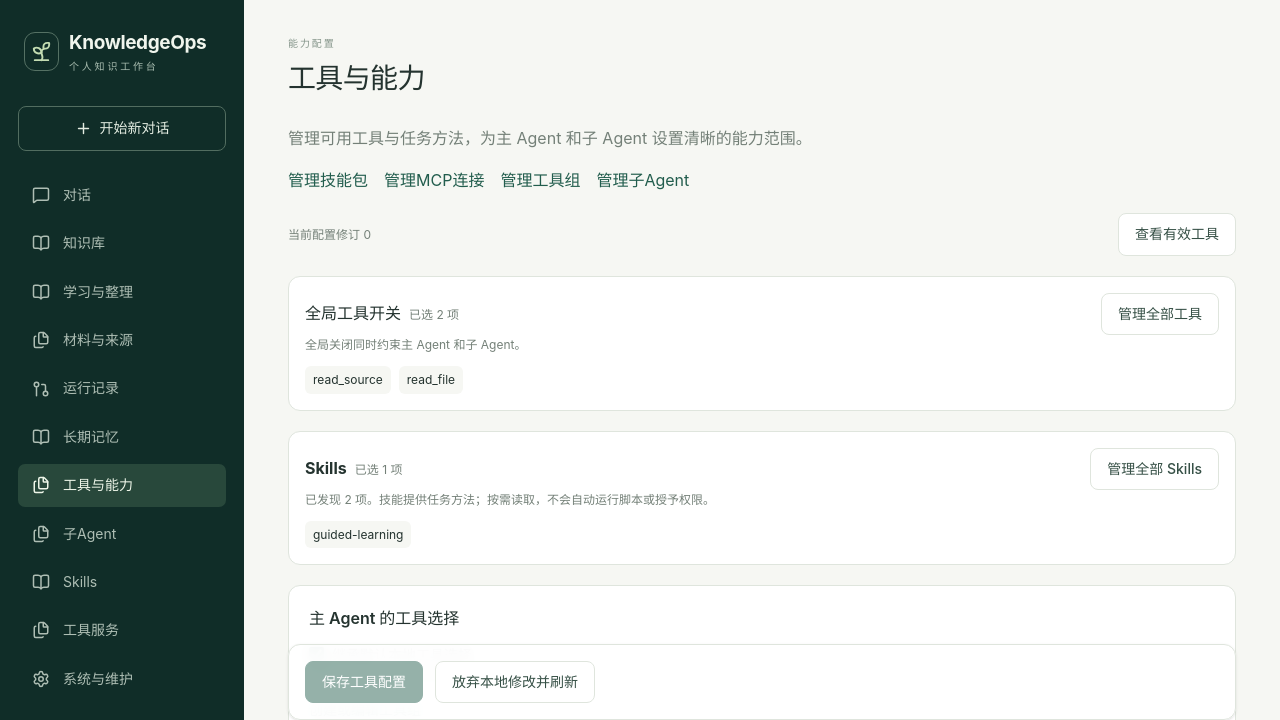
Test: keeps the page compact and loads effective tools only when requested
Check: the heading "工具与能力" is shown, box [288, 59, 425, 98]
Click the button "查看有效工具" at (1177, 235), box [1118, 213, 1236, 256]
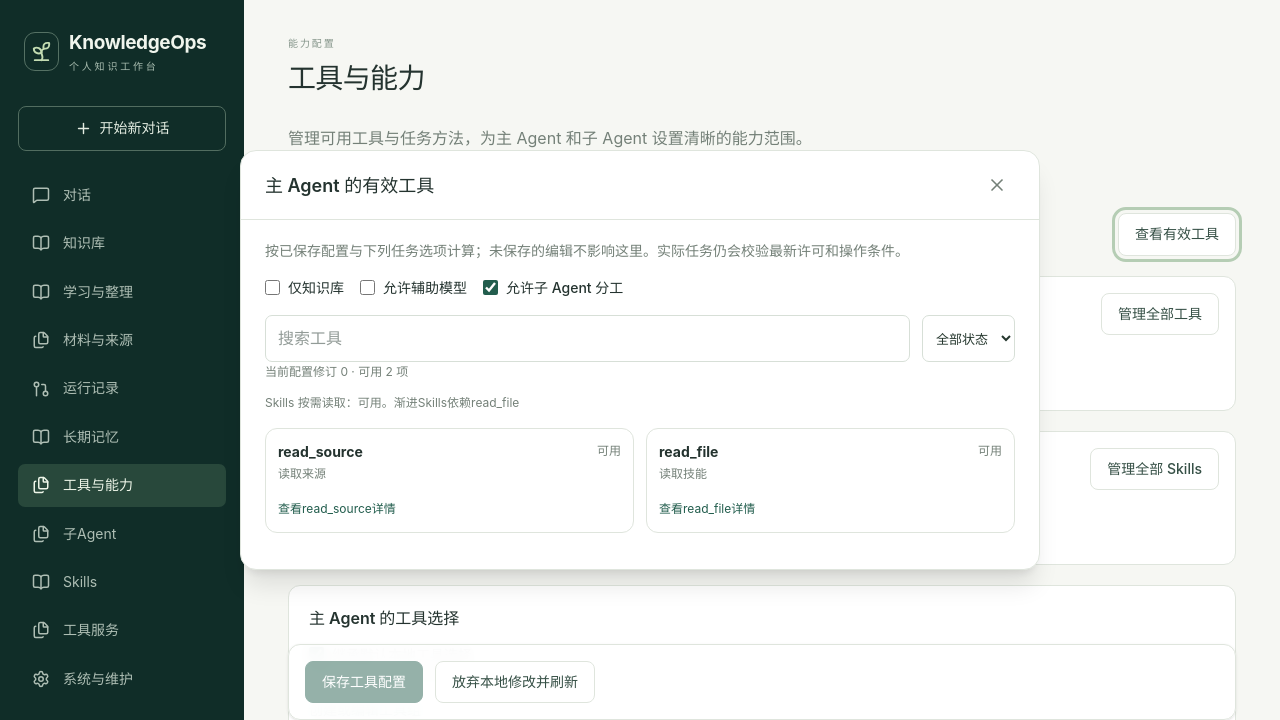
Check: the text "read_source" is shown, box [278, 441, 363, 464]
